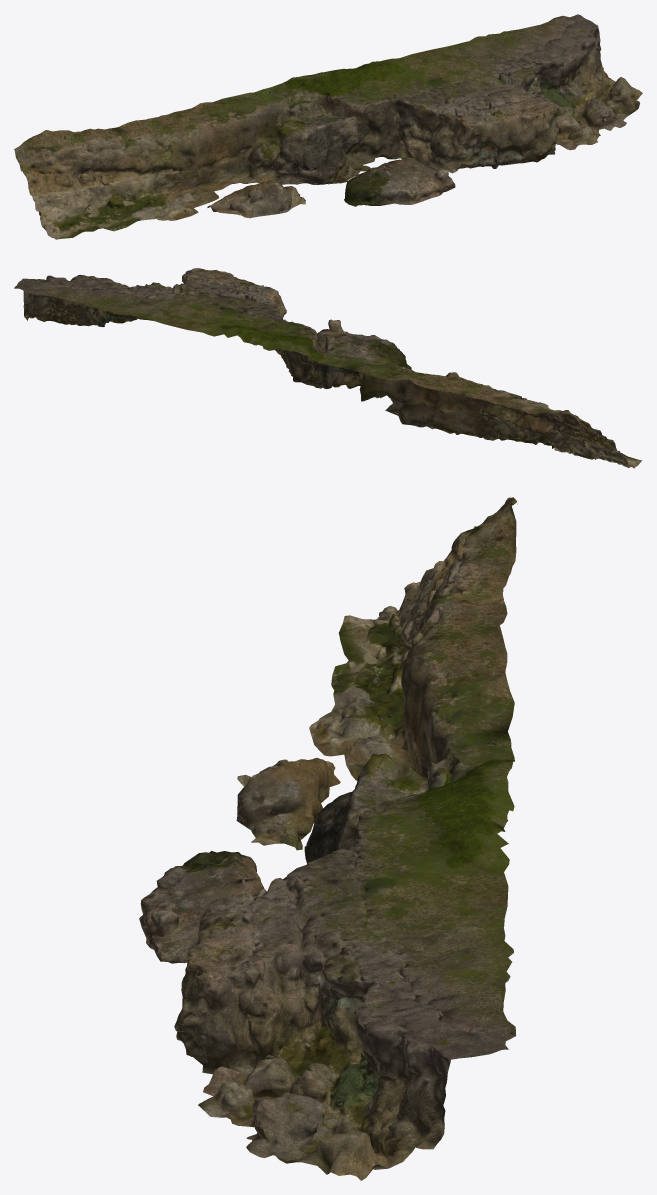
File: coastal_cliff_04.glb
3 views of the same model, one above another, from view 1: azimuth 30°, elevation 25°; view 2: azimuth 150°, elevation 25°; view 3: azimuth 270°, elevation 25° (orthographic). The views are drawn at different scales.
Parts seen in each view (by area): view 1: coastal_cliff_04; view 2: coastal_cliff_04; view 3: coastal_cliff_04.
Boxes of the visible parts, x1,y1,x2,y2 form: coastal_cliff_04: (14,14,642,239); coastal_cliff_04: (14,268,642,468); coastal_cliff_04: (139,497,517,1180).
Bounding box in the file's own units: 86.77 × 11 × 24.23.
Materials: 1 (1 with a texture image).
